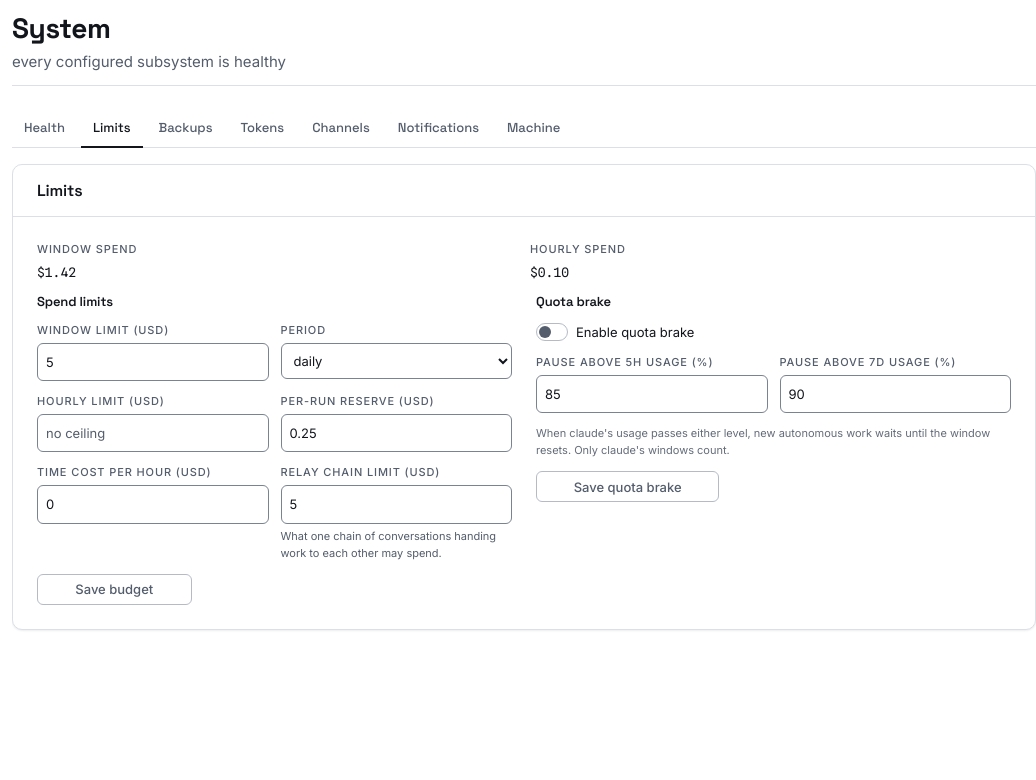
System - quota brake › quota brake fields show the daemon's values and save all three
This screenshot has width=1036, height=780.
expect the field labelled "Pause above 5h usage (%)" holds "85": met, box [536, 375, 768, 413]
expect the field labelled "Pause above 7d usage (%)" holds "90": met, box [780, 375, 1011, 413]
Click the switch labelled "Enable quota brake": [552, 332] box [536, 323, 568, 341]
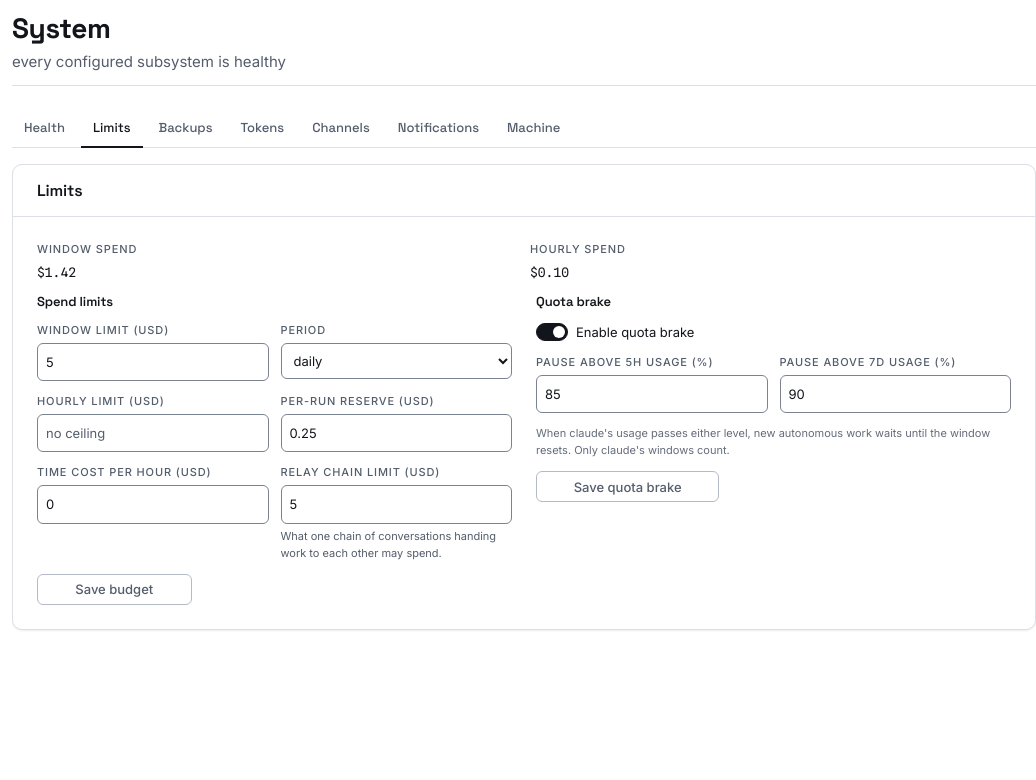
Replace the text in the field labelled "Pause above 5h usage (%)" with "80": [652, 394] box [536, 375, 768, 413]
Replace the text in the field labelled "Pause above 7d usage (%)" with "95": [895, 394] box [780, 375, 1011, 413]
Click the button "Save quota brake": [628, 487] box [536, 471, 719, 502]
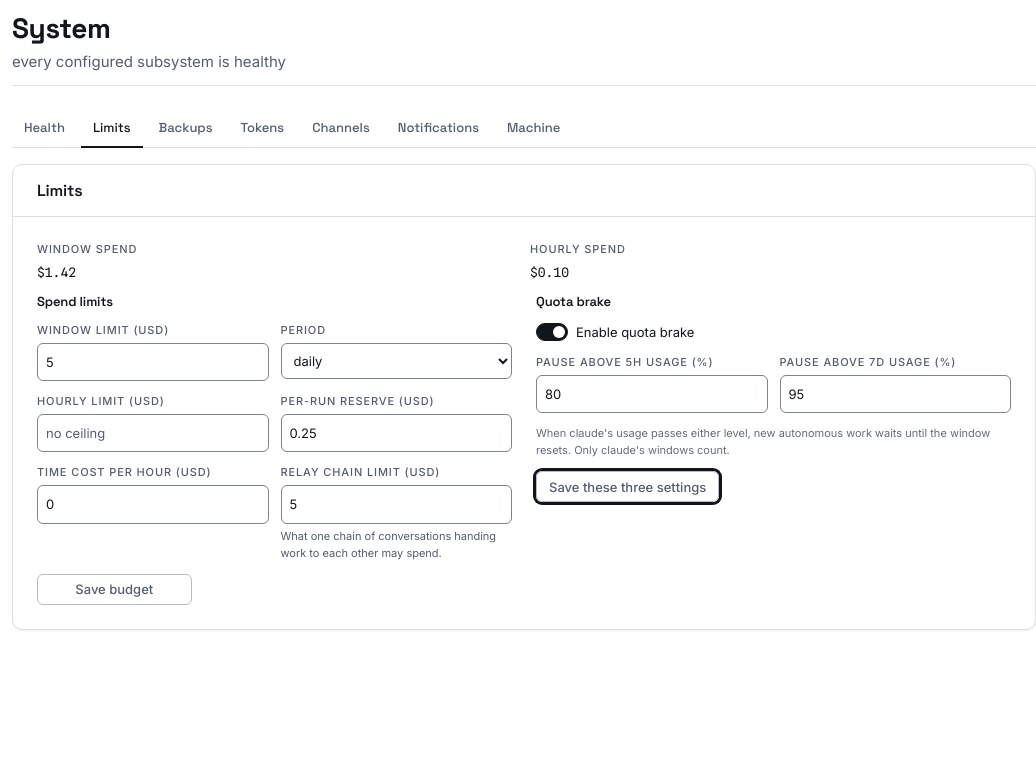
Click the button "Save these three settings": [628, 487] box [536, 471, 719, 502]
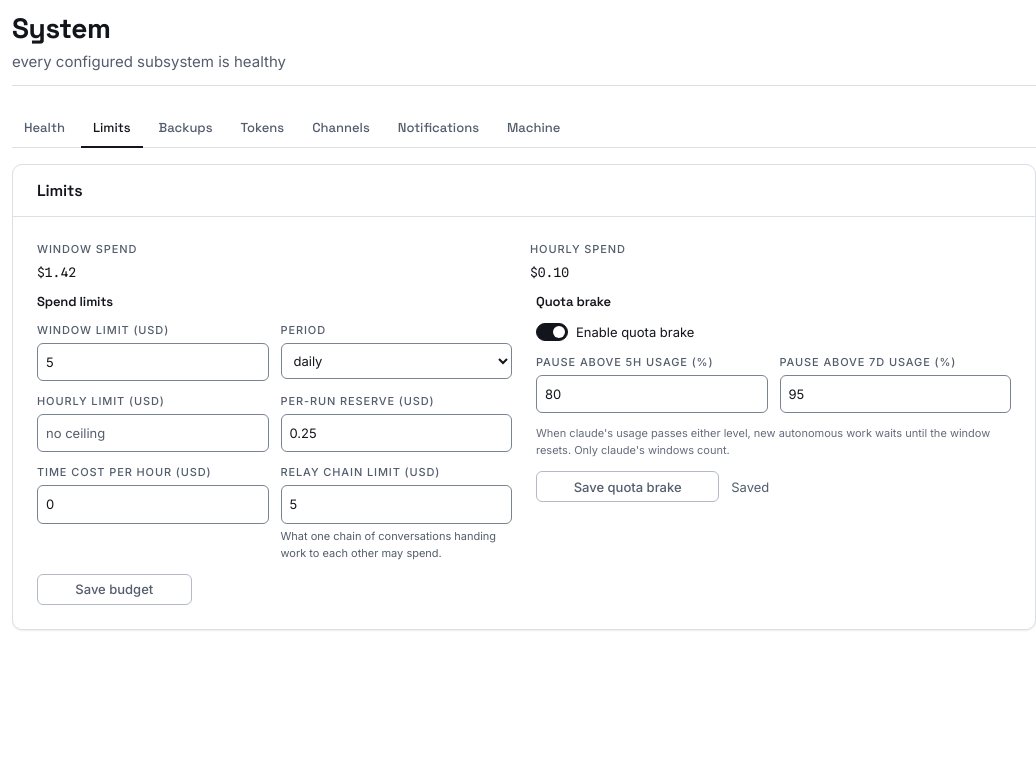
Replace the text in the field labelled "Pause above 5h usage (%)" with "0": [652, 394] box [536, 375, 768, 413]
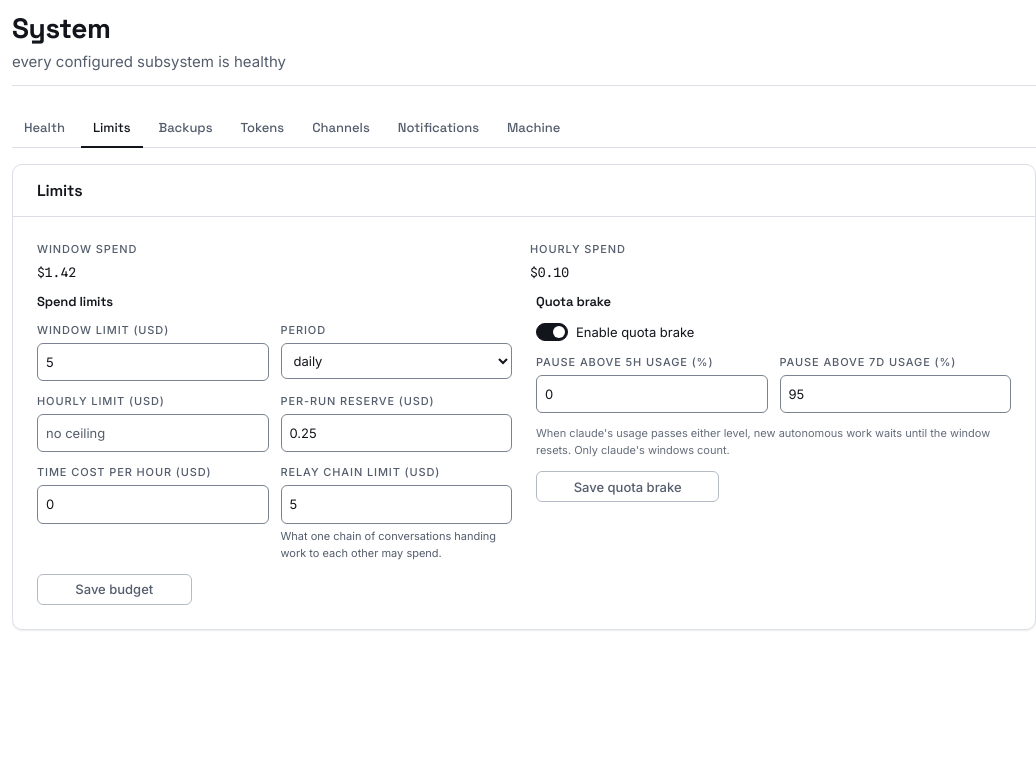
Click the button "Save quota brake": [628, 487] box [536, 471, 719, 502]
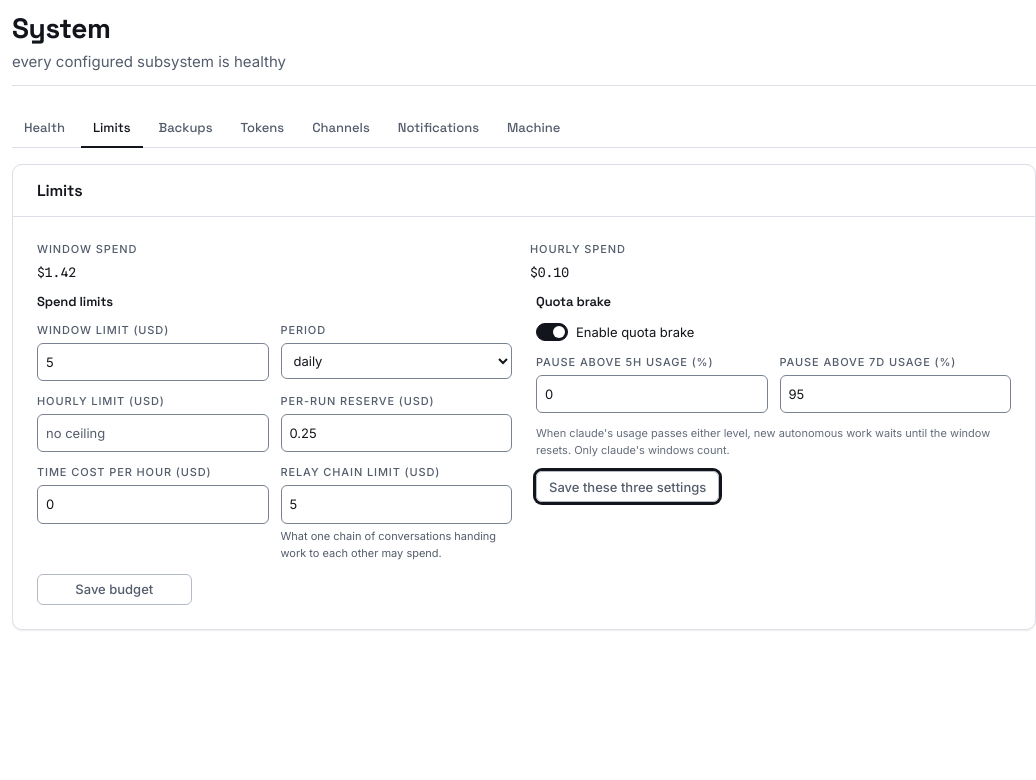
Click the button "Save these three settings": [628, 487] box [536, 471, 719, 502]
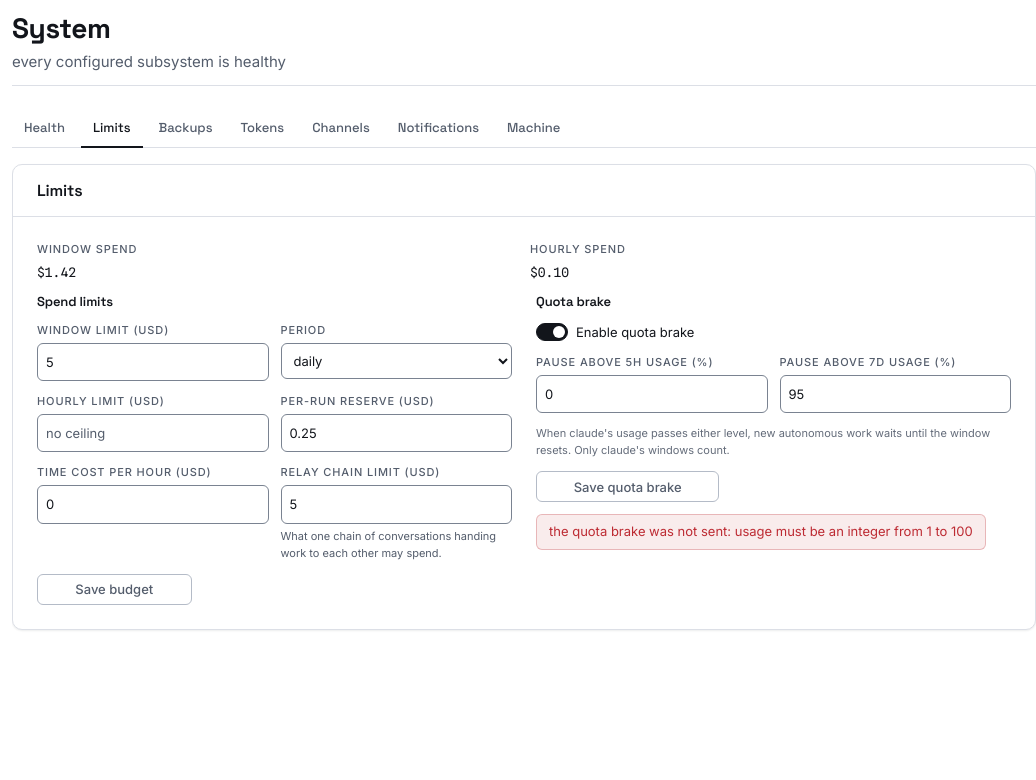
expect the message "the quota brake was not sent: usage must be an integer from 1 to 100" is shown: met, box [536, 514, 986, 550]
